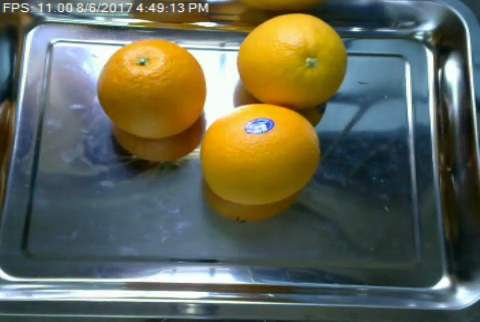Orange: (200, 103, 320, 205), (97, 40, 205, 137), (236, 13, 347, 106)
